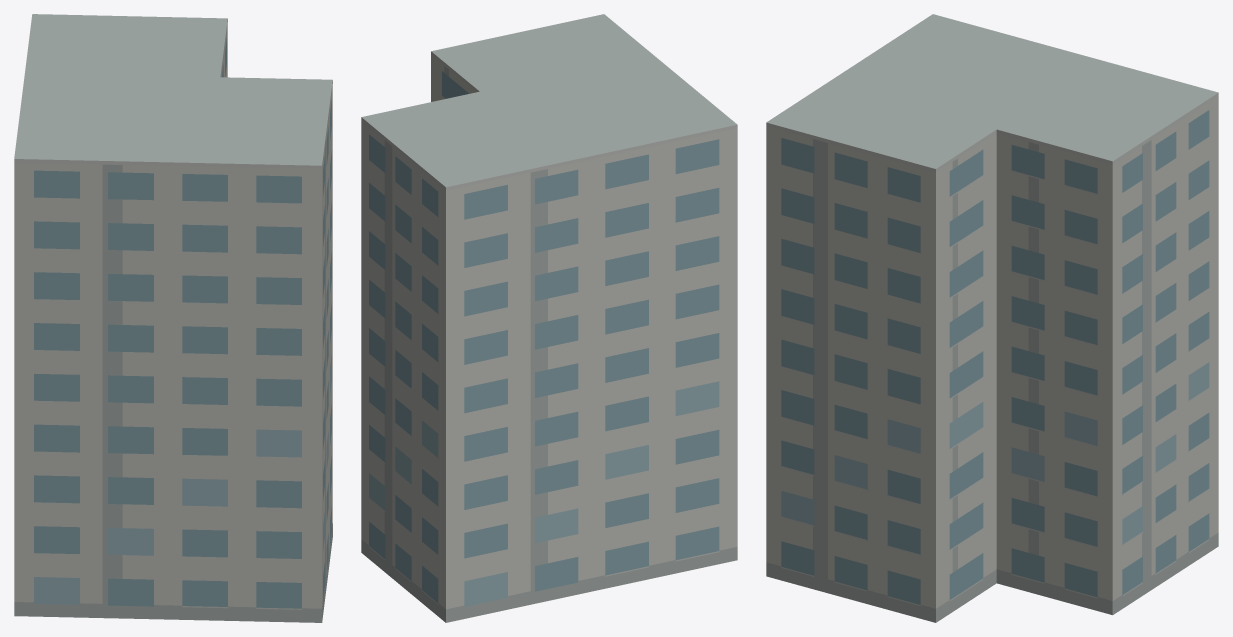
Rendered from residential-461a122a-f26f-4c72-84b7-7f94cf5c3a95.glb.
3 views of the same model, side by side, from view 1: azimuth 30°, elevation 25°; view 2: azimuth 150°, elevation 25°; view 3: azimuth 270°, elevation 25° (orthographic). The views are drawn at different scales.
Visible parts, largest first — view 1: residential-461a122a-f26f-4c72-84b7-7f94cf5c3a95.tmp; view 2: residential-461a122a-f26f-4c72-84b7-7f94cf5c3a95.tmp; view 3: residential-461a122a-f26f-4c72-84b7-7f94cf5c3a95.tmp.
Boxes of the visible parts, x1=… form: residential-461a122a-f26f-4c72-84b7-7f94cf5c3a95.tmp: x1=14, y1=14, x2=332, y2=622; residential-461a122a-f26f-4c72-84b7-7f94cf5c3a95.tmp: x1=361, y1=14, x2=737, y2=622; residential-461a122a-f26f-4c72-84b7-7f94cf5c3a95.tmp: x1=766, y1=14, x2=1218, y2=622.
Bounding box in the file's own units: 21.99 × 30 × 27.12.
